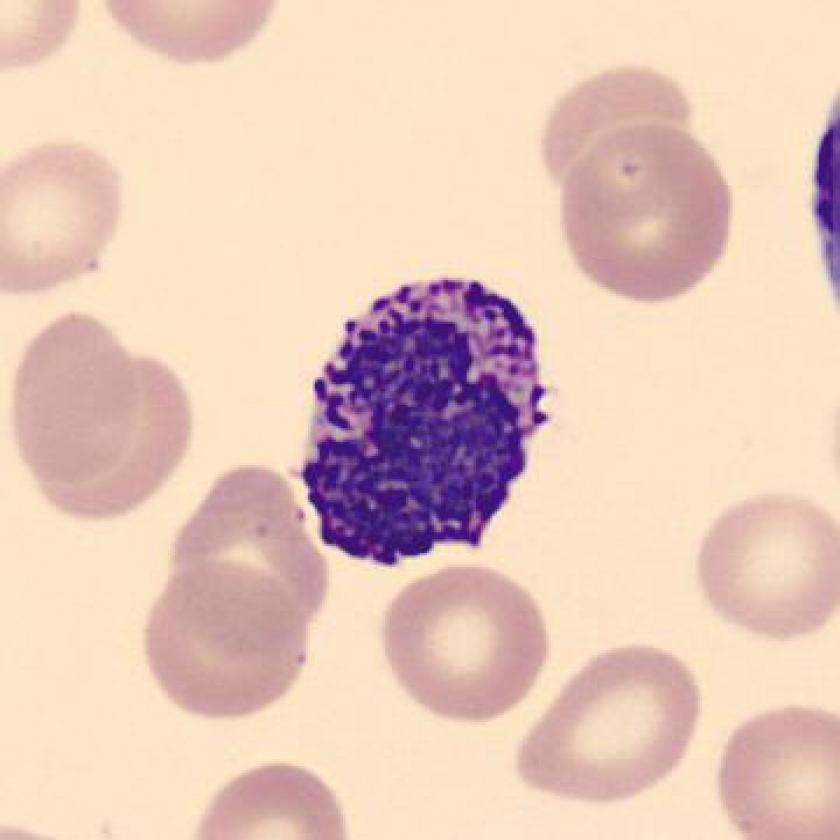basophil: (297, 265, 552, 566)
